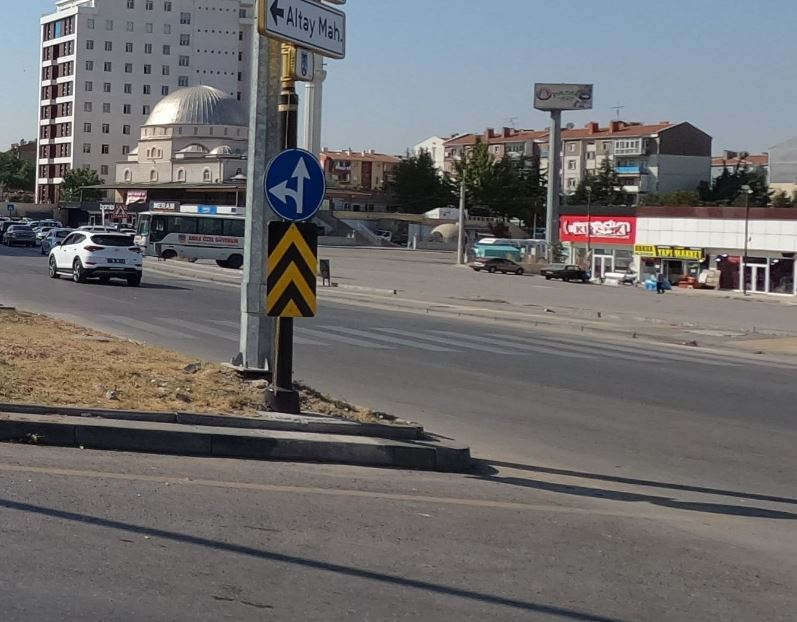ileri ve Sola Mecburi Don: (261, 137, 336, 222)
